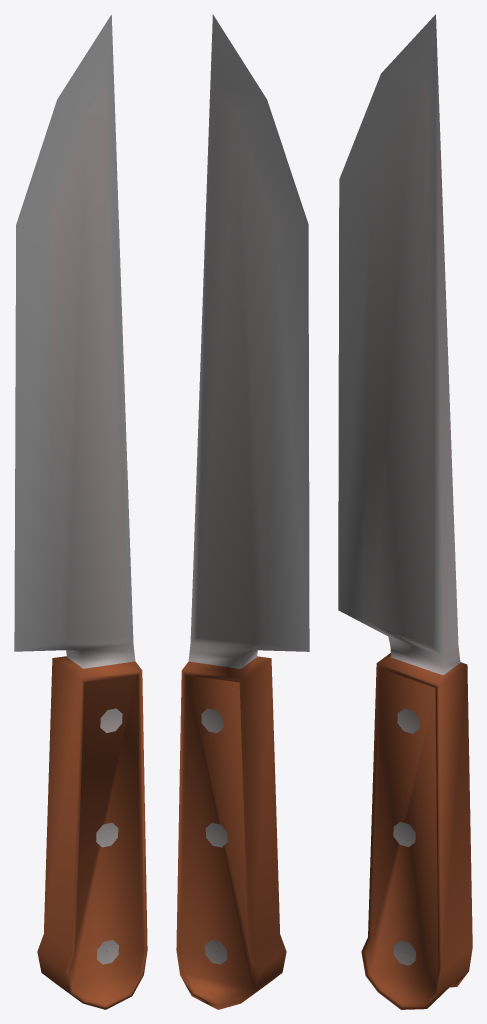
File: Knife.fbx
3 renders of one model, left to right at view 1: azimuth 30°, elevation 25°; view 2: azimuth 150°, elevation 25°; view 3: azimuth 330°, elevation 25°, orthographic.
Parts seen in each view (by area): view 1: Knife; view 2: Knife; view 3: Knife.
Part boxes in pixels (bbox=[...]): Knife: bbox=[14, 14, 147, 1009]; Knife: bbox=[176, 14, 309, 1009]; Knife: bbox=[338, 14, 472, 1009].
Bounding box in the file's own units: 63.75 × 507 × 28.61.
